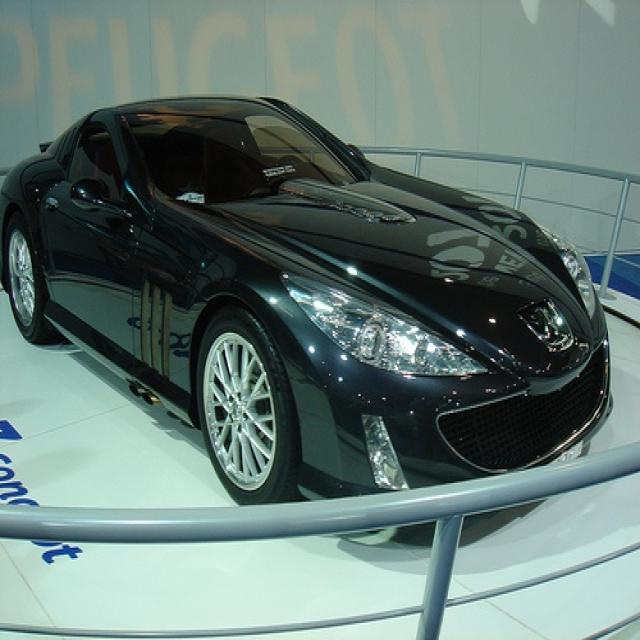car: (0, 95, 612, 507)
